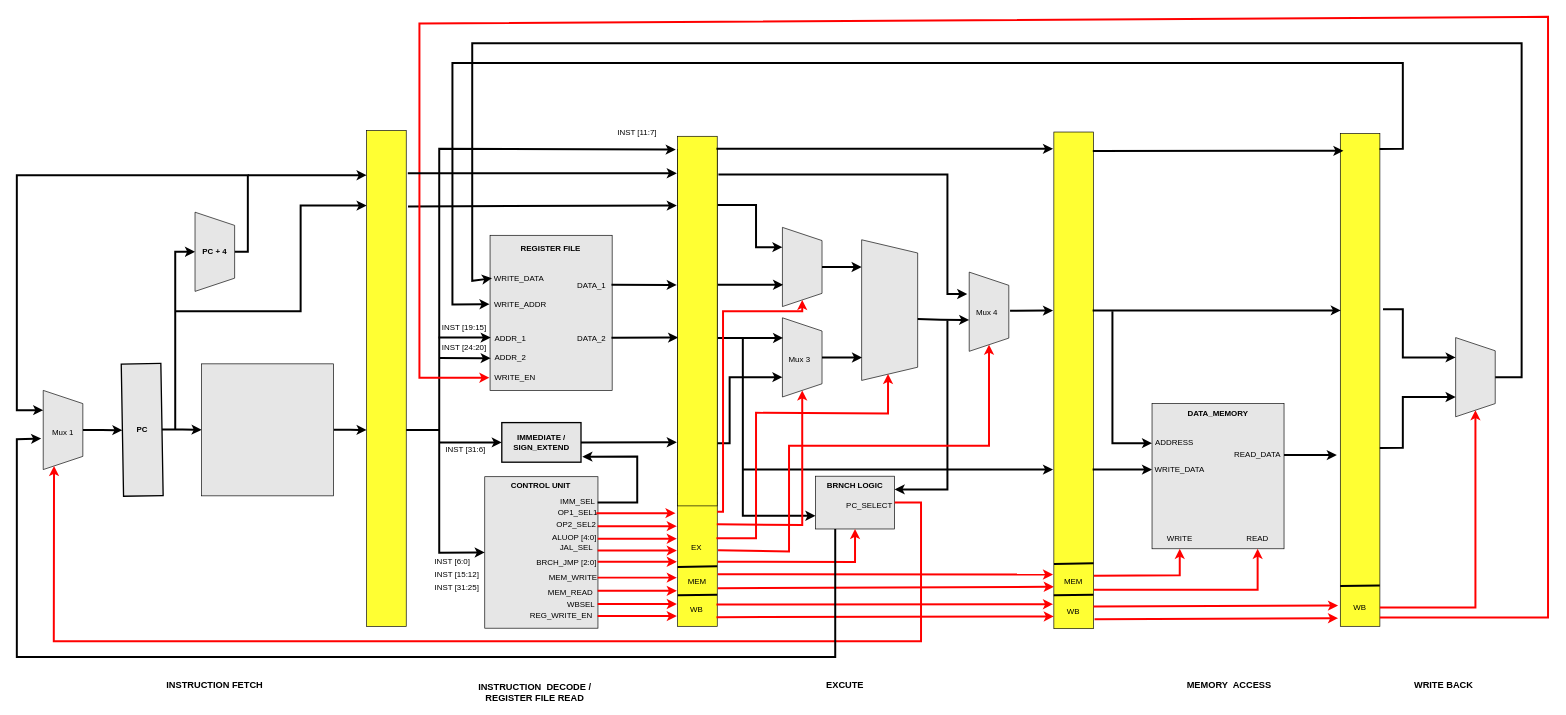
The diagram is 1566 pixels wide and 715 high, and some of its shapes have lost their labels. Here are the shapes that lost their labels. From the top down, the centre of each, then its label:
At point (802, 267): "Mux 2".
At point (889, 309): "ALU".
At point (1475, 377): "Mux 5".
At point (267, 429): "INSTRUCTION _MEMORY".
